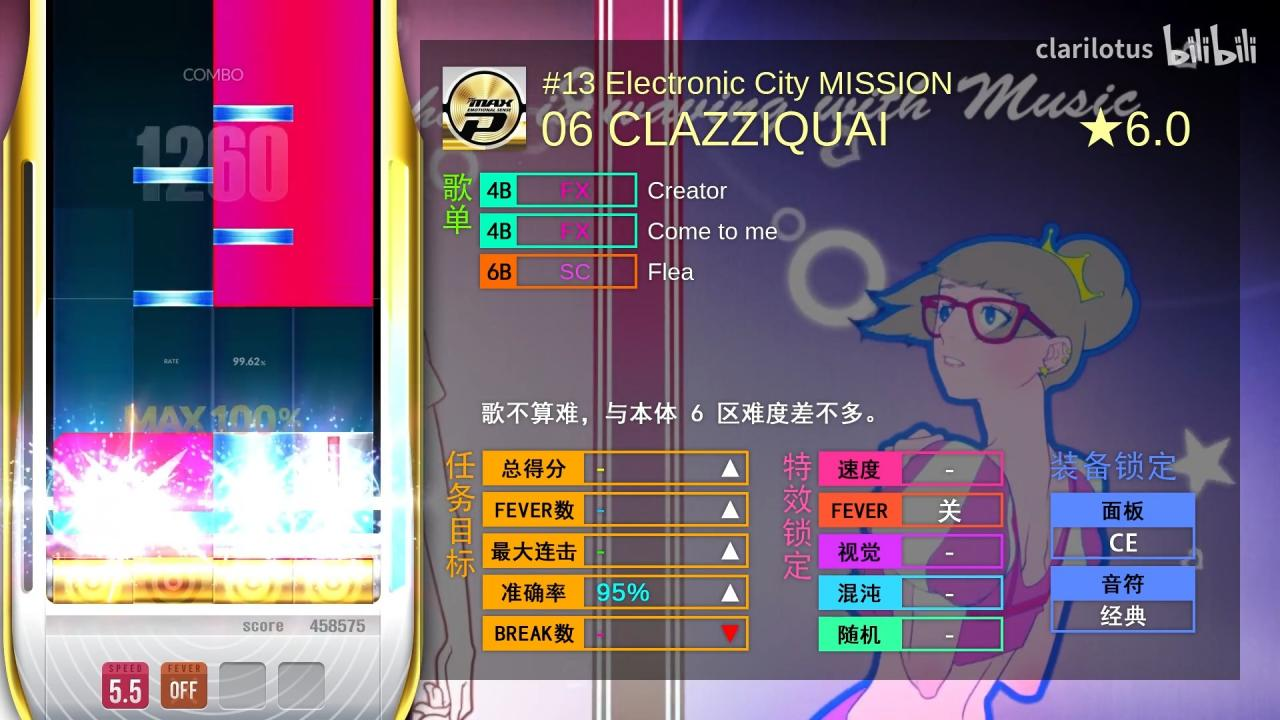hold-end: (295, 432, 373, 450), (213, 433, 294, 450)
note: (213, 105, 294, 123), (133, 290, 213, 308), (214, 228, 294, 244), (133, 168, 214, 183)
xend: (54, 433, 214, 450)
xstart: (213, 286, 373, 306)
